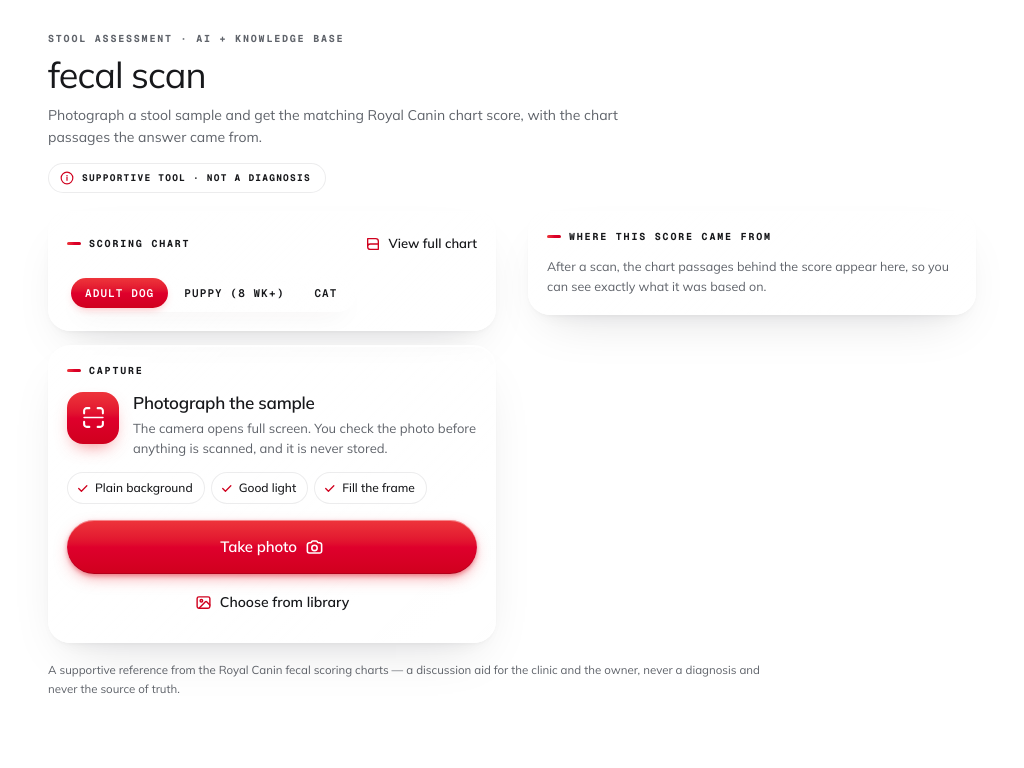
Scenario: FecalScanScreen › lists every score of the selected chart in the full-chart sheet
Click the button "View full chart".
click(421, 244)  # box [362, 222, 481, 266]
(page scrolled)
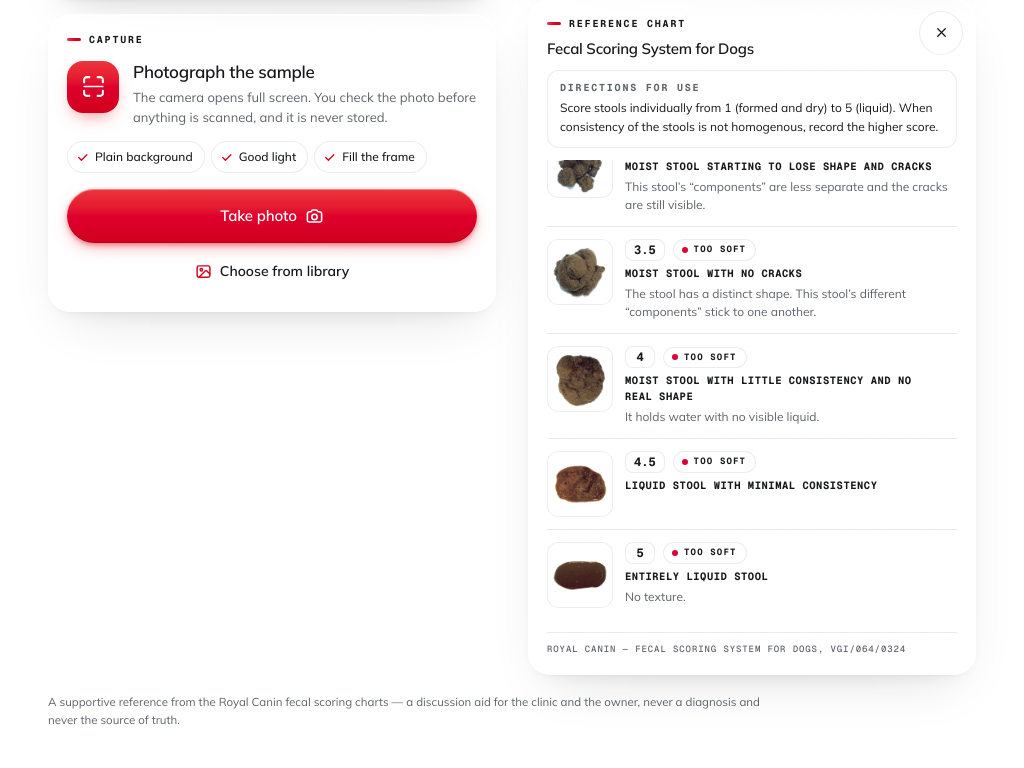
Now the text "MOIST STOOL STARTING TO LOSE SHAPE AND CRACKS" is shown, box [625, 160, 957, 174]
Now the text "MOIST STOOL WITH NO CRACKS" is shown, box [625, 266, 802, 280]
Now the text "MOIST STOOL WITH LITTLE CONSISTENCY AND NO REAL SHAPE" is shown, box [625, 373, 957, 404]
